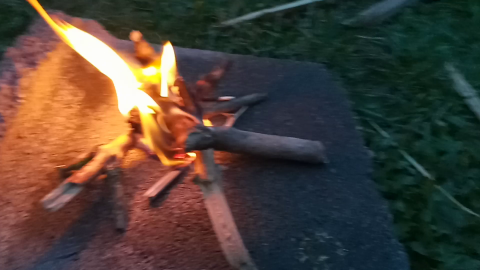fire: (22, 1, 218, 158)
